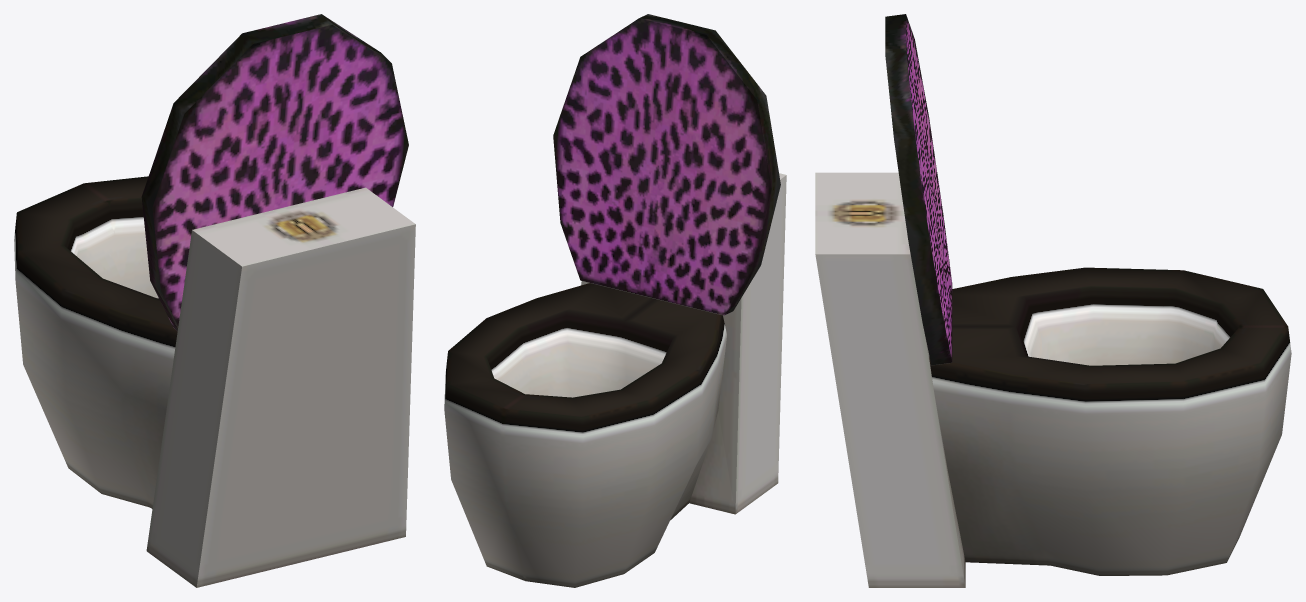
Rendered from furni_0200084_02.FBX.
3 views of the same model, side by side, from view 1: azimuth 30°, elevation 25°; view 2: azimuth 150°, elevation 25°; view 3: azimuth 270°, elevation 25° (orthographic). The views are drawn at different scales.
Visible parts, largest first — view 1: furni_0200084_02; view 2: furni_0200084_02; view 3: furni_0200084_02.
Boxes of the visible parts, <box> form: furni_0200084_02: <box>14,14,415,587</box>; furni_0200084_02: <box>444,14,786,587</box>; furni_0200084_02: <box>815,14,1291,587</box>.
Bounding box in the file's own units: 54.1 × 106 × 90.2.
1 material, 1 textured.
